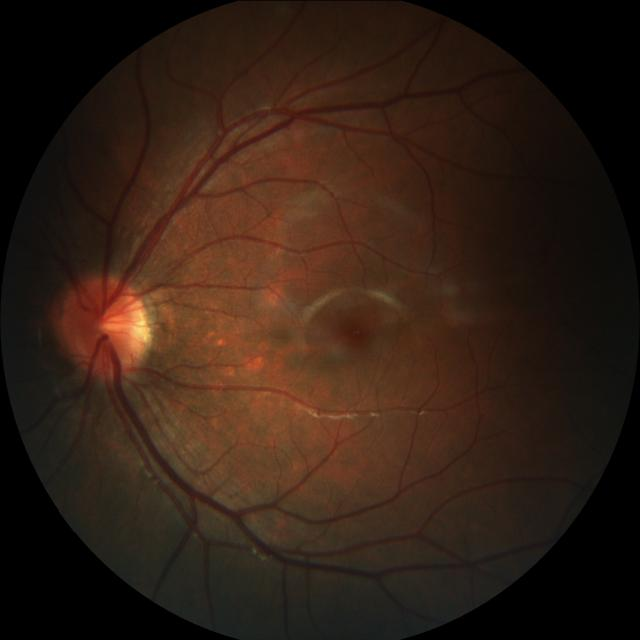OC: (94, 303, 136, 349)
OD: (63, 272, 152, 380)
